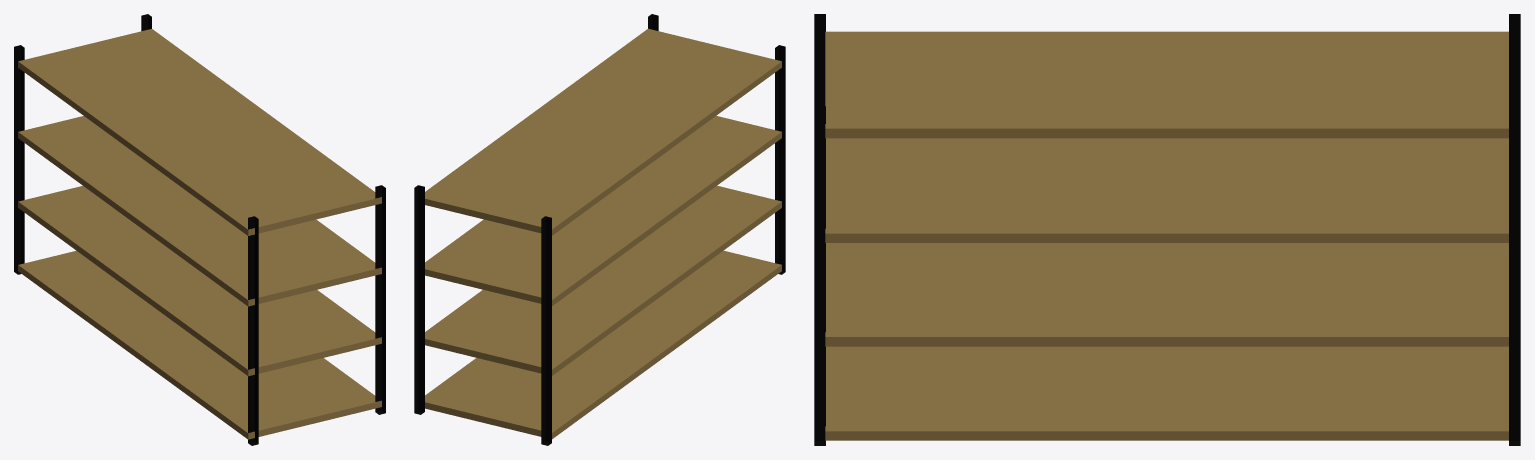
The model's file is shelves.fbx.
The picture shows the model from 3 angles, left to right: view 1: azimuth 30°, elevation 25°; view 2: azimuth 150°, elevation 25°; view 3: azimuth 270°, elevation 25°; orthographic projection. The views are drawn at different scales.
Visible parts, largest first — view 1: Plane; view 2: Plane; view 3: Plane.
Part boxes in pixels (x1,y1,x2,y2): Plane: [14, 14, 385, 445]; Plane: [414, 14, 785, 445]; Plane: [814, 14, 1520, 445].
Size of the model in its own units: 200 by 322 by 615.
